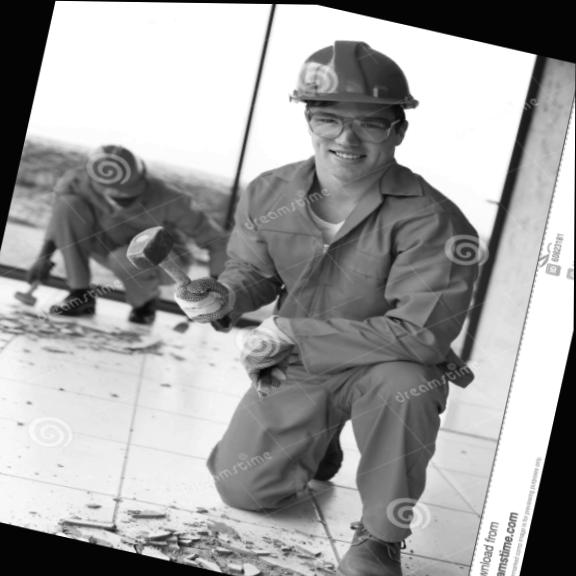safety_vest: (201, 134, 522, 410), (40, 169, 196, 282)
